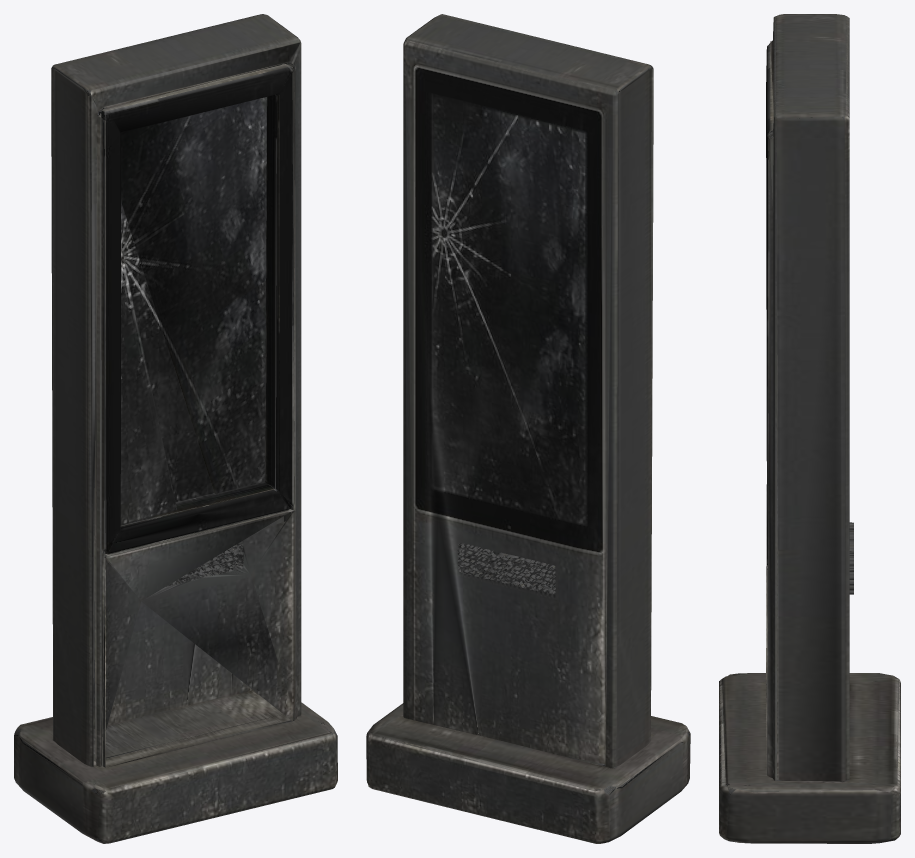
Rendered from p7-info-touch-kiosk-t25.glb.
The picture shows the model from 3 angles, left to right: view 1: azimuth 30°, elevation 25°; view 2: azimuth 150°, elevation 25°; view 3: azimuth 270°, elevation 25°; orthographic projection.
Parts seen in each view (by area): view 1: p7-info-touch-kiosk-t25; view 2: p7-info-touch-kiosk-t25; view 3: p7-info-touch-kiosk-t25.
Part boxes in pixels (box(x1,y1,x2,y2)): p7-info-touch-kiosk-t25: box(14, 14, 337, 843); p7-info-touch-kiosk-t25: box(366, 14, 690, 843); p7-info-touch-kiosk-t25: box(719, 14, 900, 843).
Size of the model in its own units: 0.6 by 1.7 by 0.388.
Materials: 1 (1 with a texture image).
